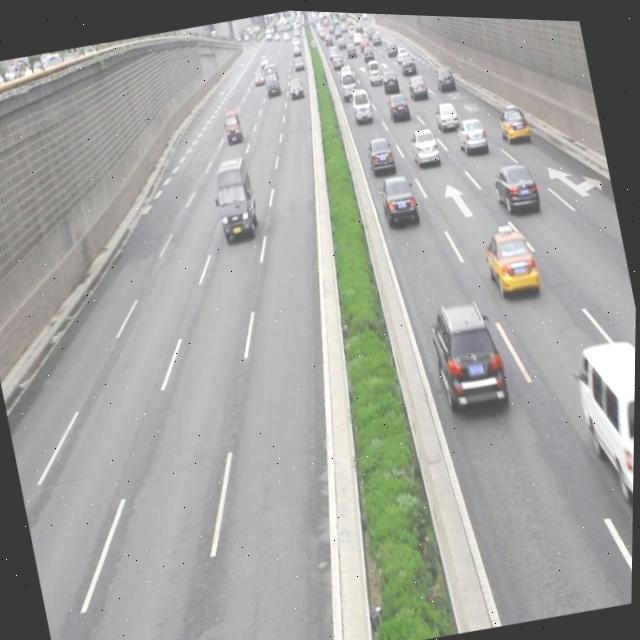car: (424, 292, 512, 417), (478, 215, 541, 300), (490, 155, 540, 215), (376, 166, 419, 226), (453, 110, 489, 156), (406, 124, 441, 168), (495, 99, 529, 140), (365, 133, 396, 174), (431, 96, 461, 130)
truck: (566, 328, 636, 508), (209, 156, 262, 242)
